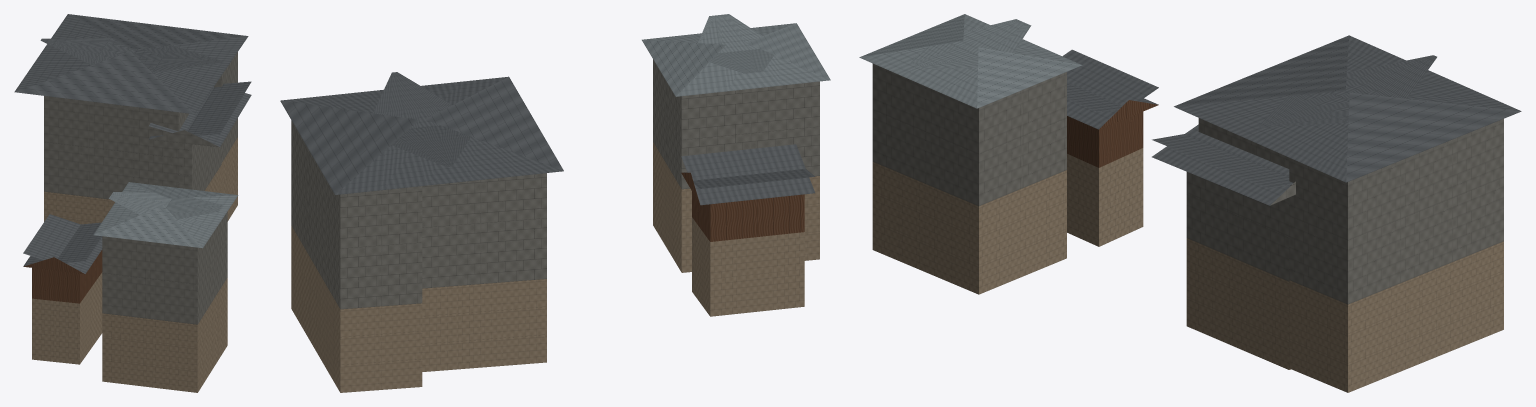
The model's file is bld_c34_-28_455.gltf.
The picture shows the model from 3 angles, left to right: view 1: azimuth 30°, elevation 25°; view 2: azimuth 150°, elevation 25°; view 3: azimuth 270°, elevation 25°; orthographic projection. The views are drawn at different scales.
Parts seen in each view (by area): view 1: bld_c34_-28_455; view 2: bld_c34_-28_455; view 3: bld_c34_-28_455.
Boxes of the visible parts, bbox=[...] form: bld_c34_-28_455: bbox=[14, 14, 251, 392]; bld_c34_-28_455: bbox=[280, 14, 830, 392]; bld_c34_-28_455: bbox=[859, 14, 1521, 392].
Size of the model in its own units: 25.92 by 13.6 by 34.67.
Materials: 7 (7 with a texture image).
